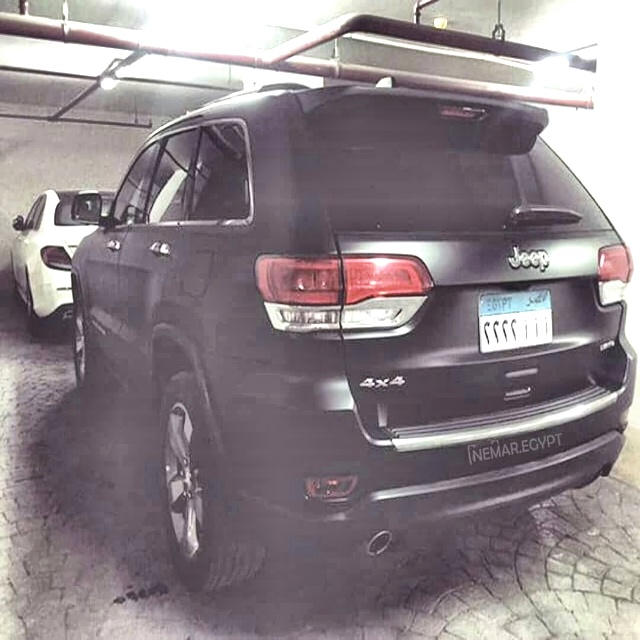License Plate: (474, 282, 558, 357)
